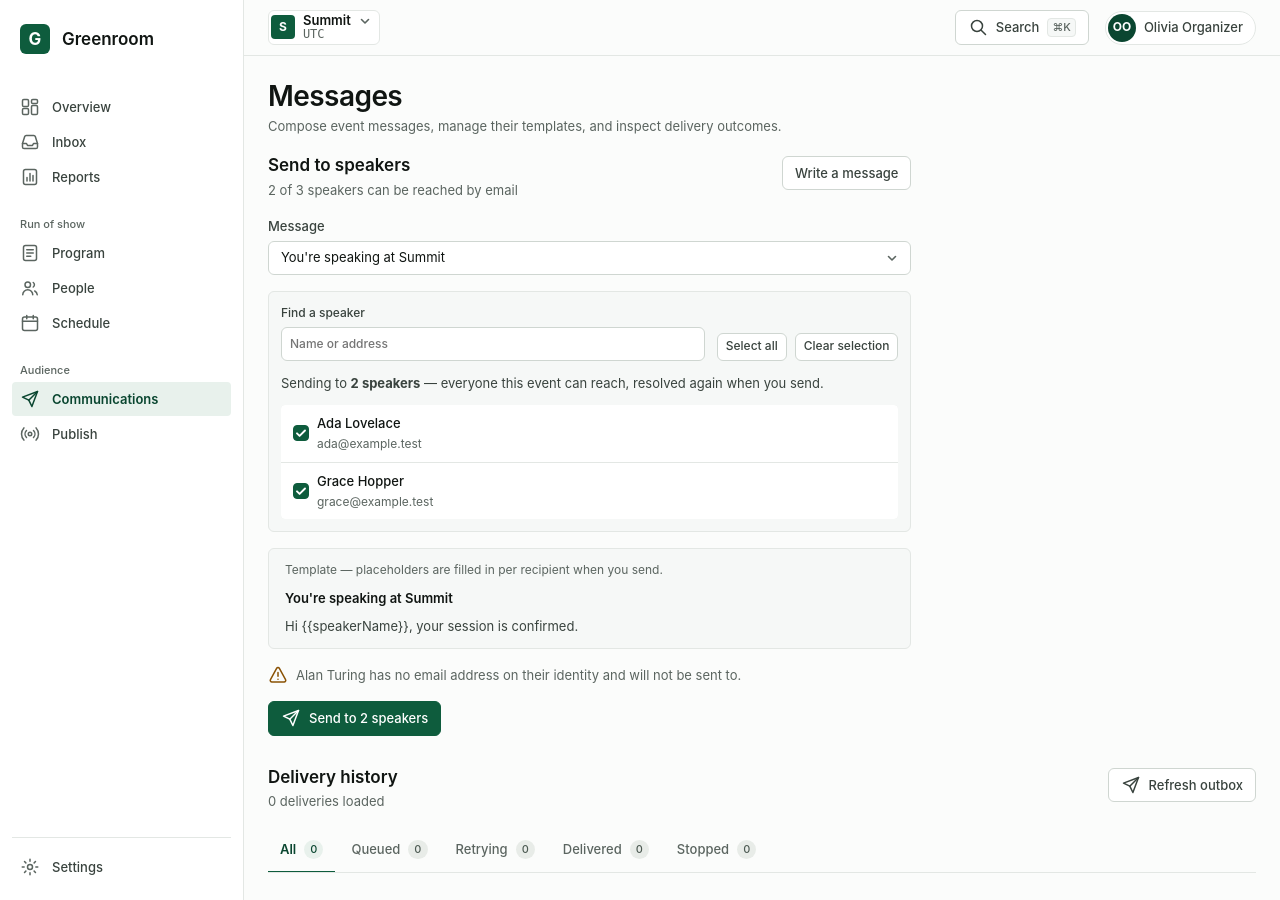
it: sending a message to speakers from the console › reports what was queued and who was left out, and shows the new delivery
Step 1. Click the button "Send to 2 speakers" → click(355, 718), box [268,701,441,736]
(page scrolled)
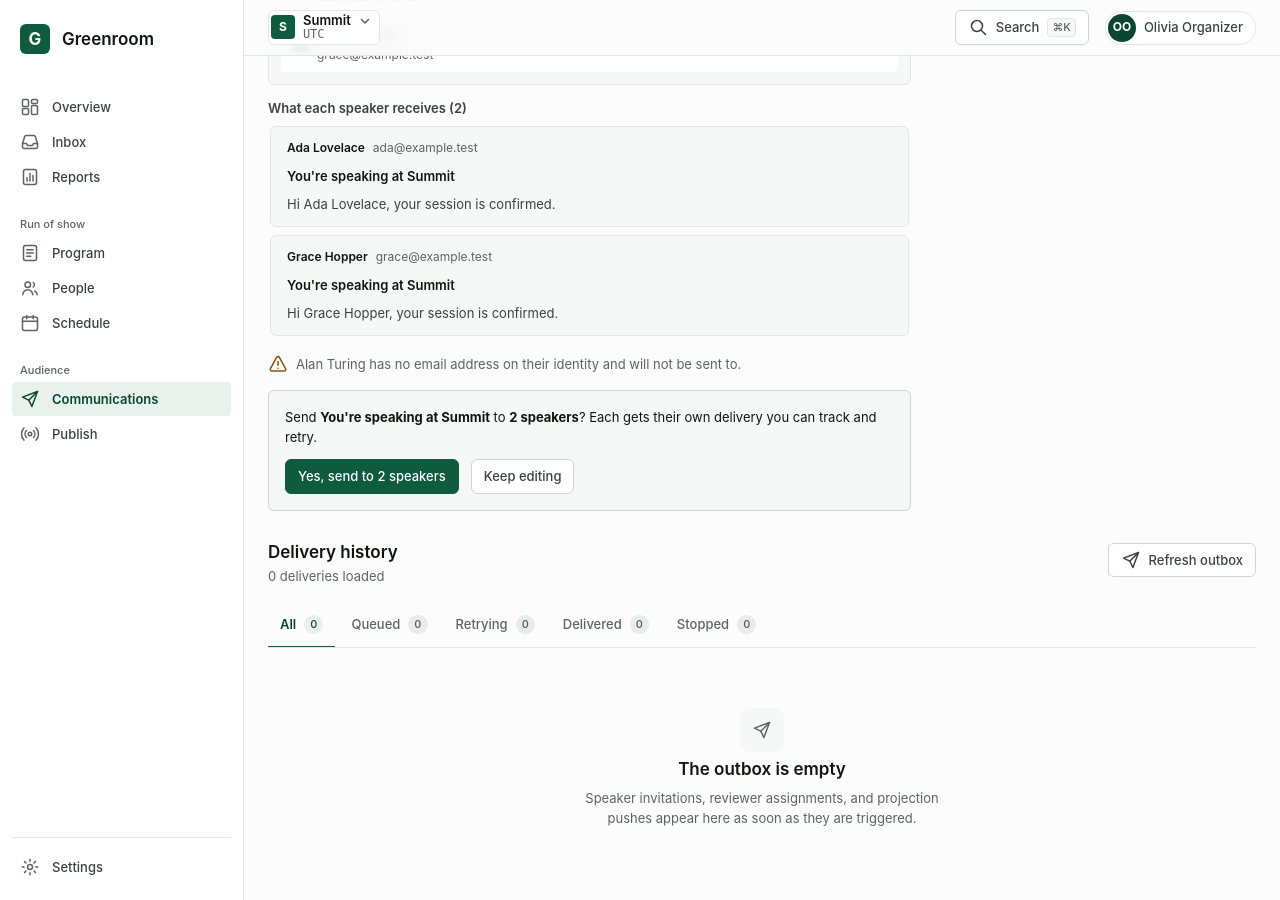
Step 2. Click the button "Yes, send to 2 speakers" → click(372, 477), box [285,460,459,494]
(page scrolled)
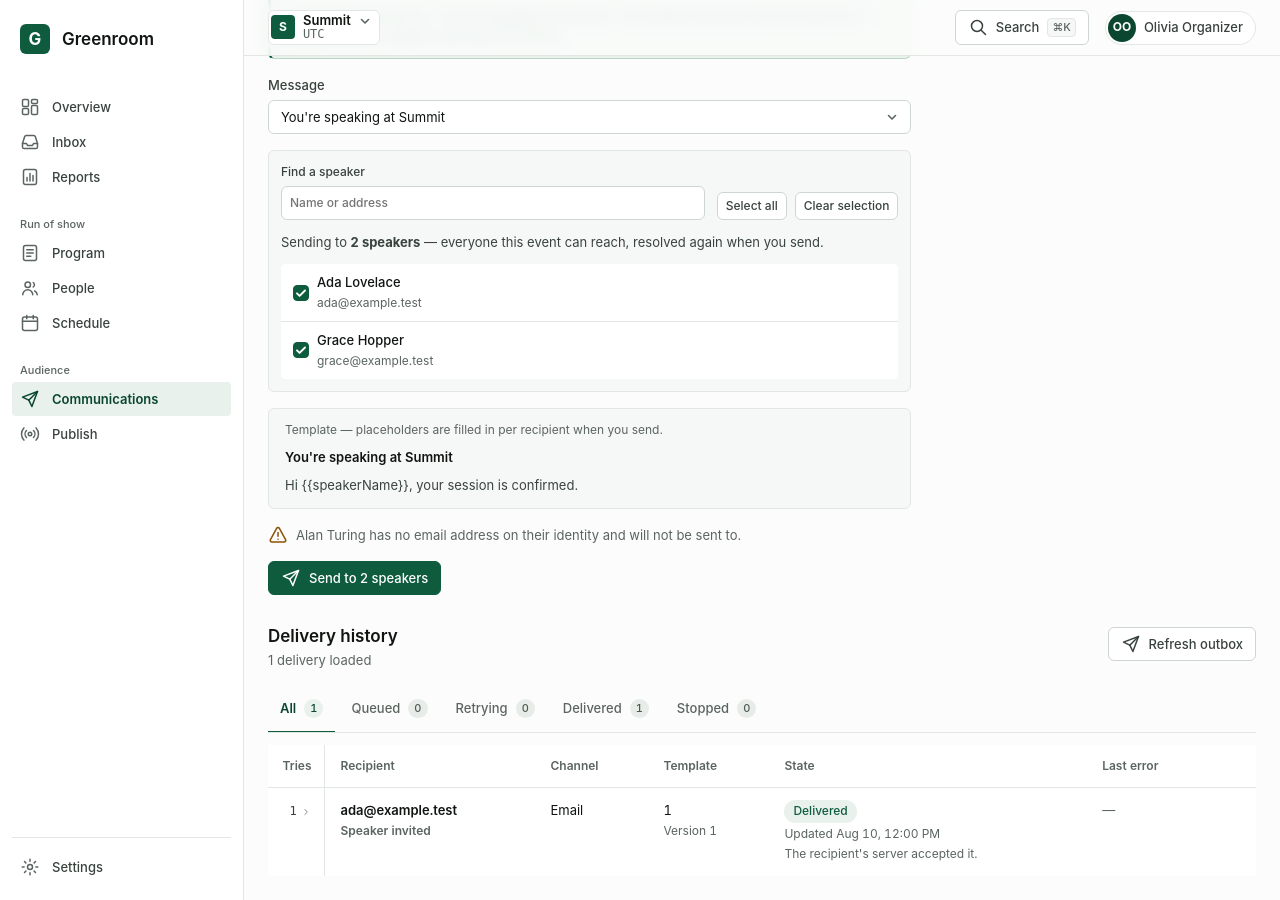
Expected: the message shows "Queued 2 deliveries for “You're speaking at Summit”. The outbox sends them on its next run. 1 speaker had no address and was not sent to.", [287,8,870,44]
Expected: the text "ada@example.test" is shown, [340,802,457,818]
